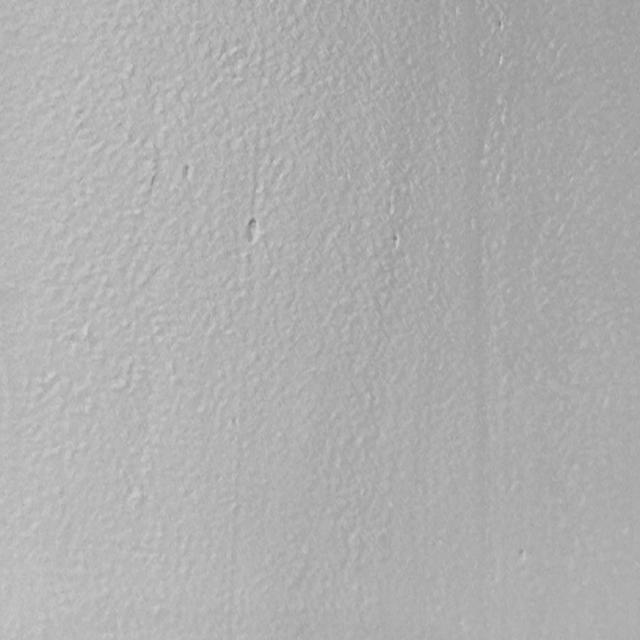pin holes: (241, 215, 262, 245), (388, 231, 404, 252), (514, 545, 530, 565), (181, 163, 196, 183)
